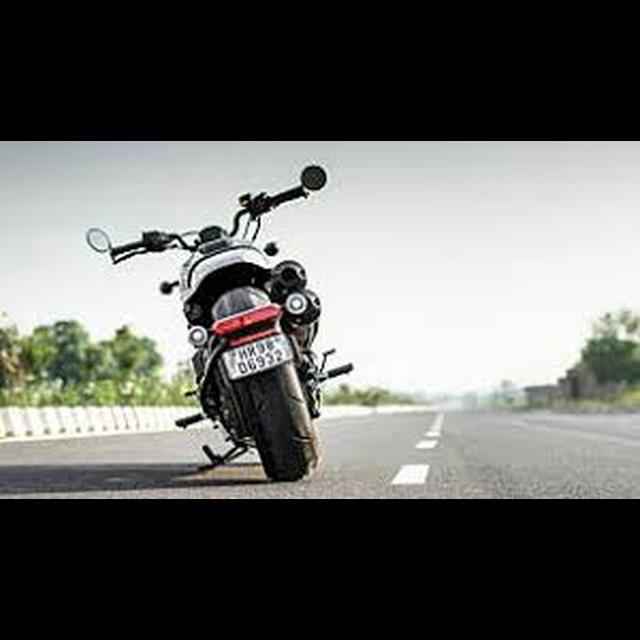motorcycle: (81, 161, 358, 487)
